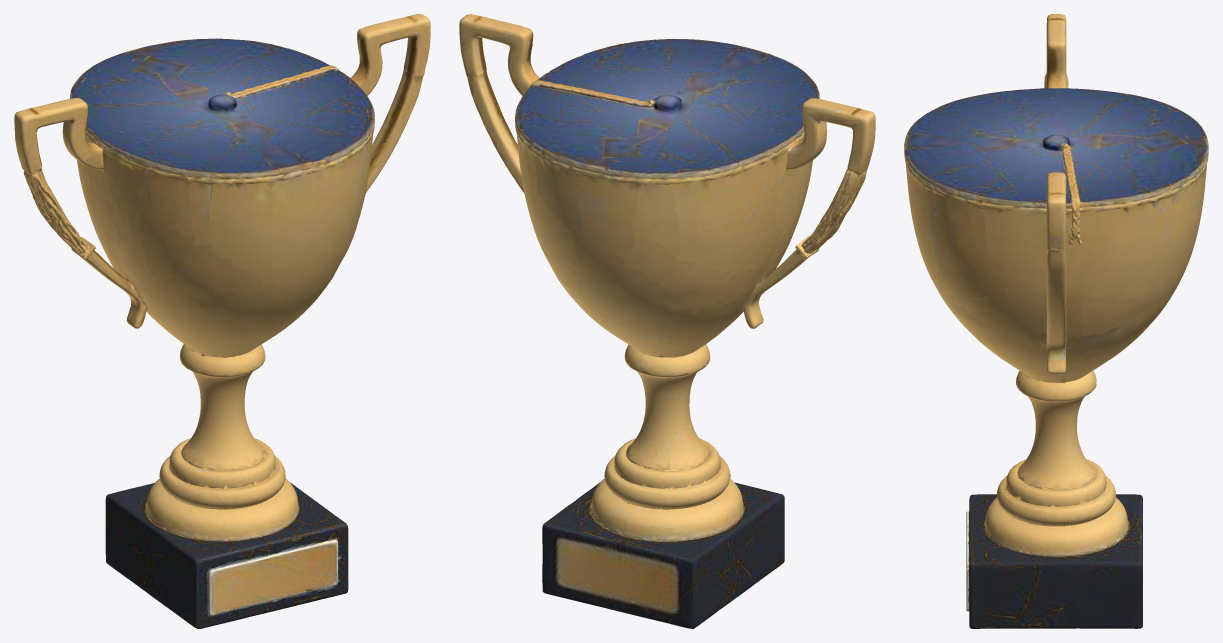
3 views of the same model, side by side, from view 1: azimuth 30°, elevation 25°; view 2: azimuth 150°, elevation 25°; view 3: azimuth 270°, elevation 25° (orthographic). The views are drawn at different scales.
Parts seen in each view (by area): view 1: Mesh; view 2: Mesh; view 3: Mesh.
Part boxes in pixels (x1=…): Mesh: x1=14, y1=14, x2=430, y2=628; Mesh: x1=459, y1=14, x2=875, y2=628; Mesh: x1=904, y1=14, x2=1208, y2=628.
Bounding box in the file's own units: 1.58 × 1.9 × 1.08.
Materials: 1 (1 with a texture image).
